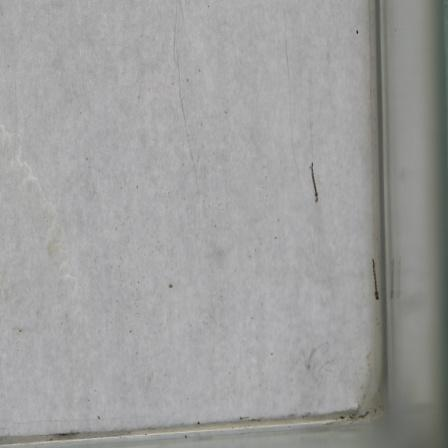Jentik-Nyamuk: (368, 256, 383, 305), (308, 160, 321, 207)
